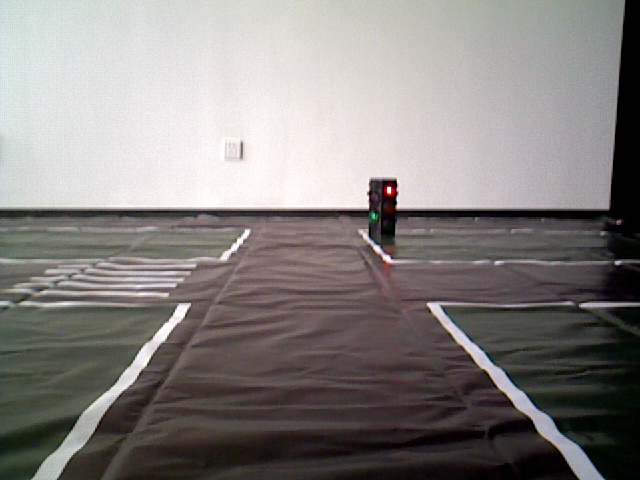red: (370, 177, 397, 243)
